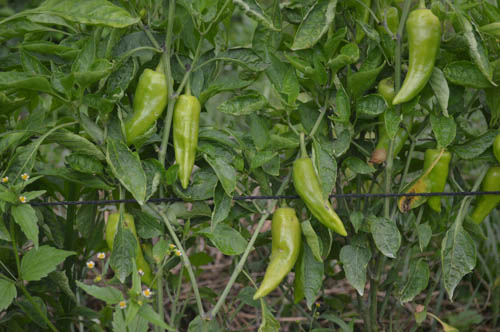ChiliPepper: (399, 9, 445, 111), (253, 205, 301, 300), (293, 157, 349, 233), (122, 70, 171, 143), (376, 81, 412, 170), (110, 209, 152, 283), (174, 95, 204, 185), (417, 149, 449, 216), (467, 167, 499, 230)
